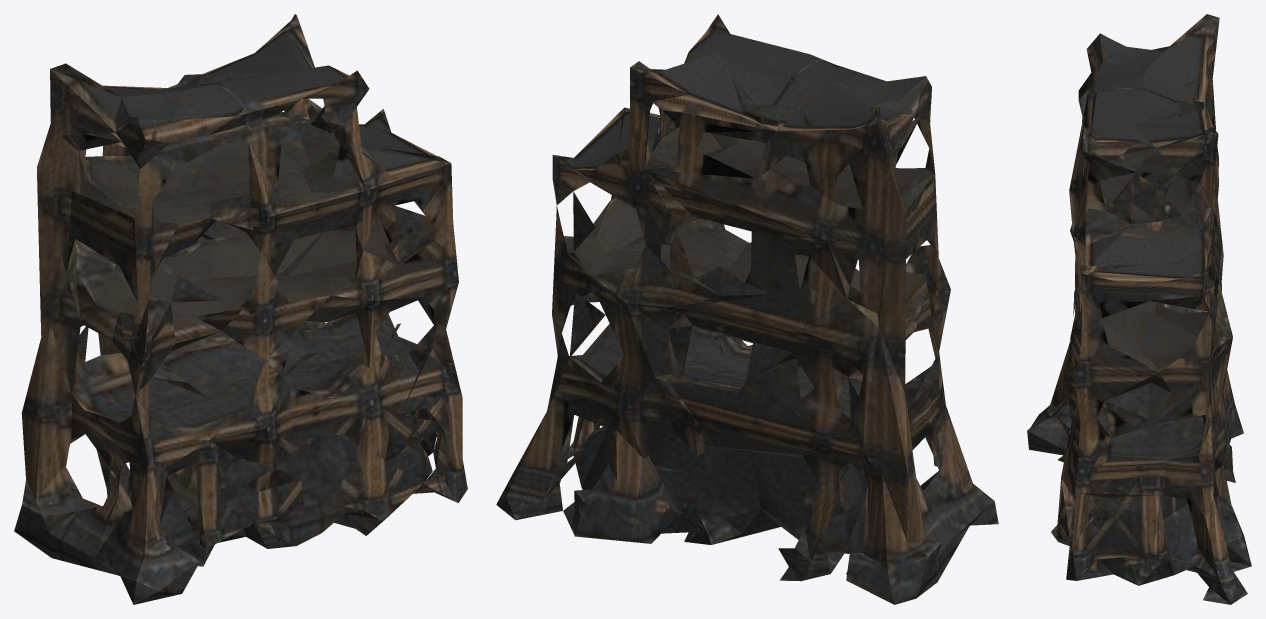
Rendered from stunt-scaffold-tower.lod.glb.
3 views of the same model, side by side, from view 1: azimuth 30°, elevation 25°; view 2: azimuth 150°, elevation 25°; view 3: azimuth 270°, elevation 25° (orthographic). The views are drawn at different scales.
Visible parts, largest first — view 1: output_unwrapped; view 2: output_unwrapped; view 3: output_unwrapped.
Part boxes in pixels (x1,y1,x2,y2): output_unwrapped: [14, 14, 467, 604]; output_unwrapped: [496, 14, 998, 604]; output_unwrapped: [1027, 14, 1251, 604].
Size of the model in its own units: 1.62 by 1.81 by 0.845.
1 material, 1 textured.
